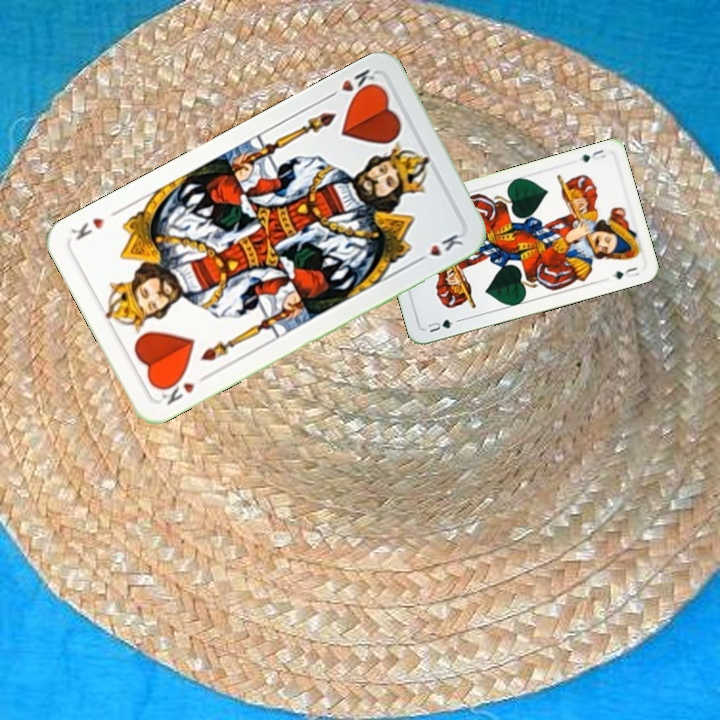GU: (423, 315, 462, 335), (577, 145, 608, 165)
HK: (322, 64, 382, 102), (155, 370, 211, 408)
